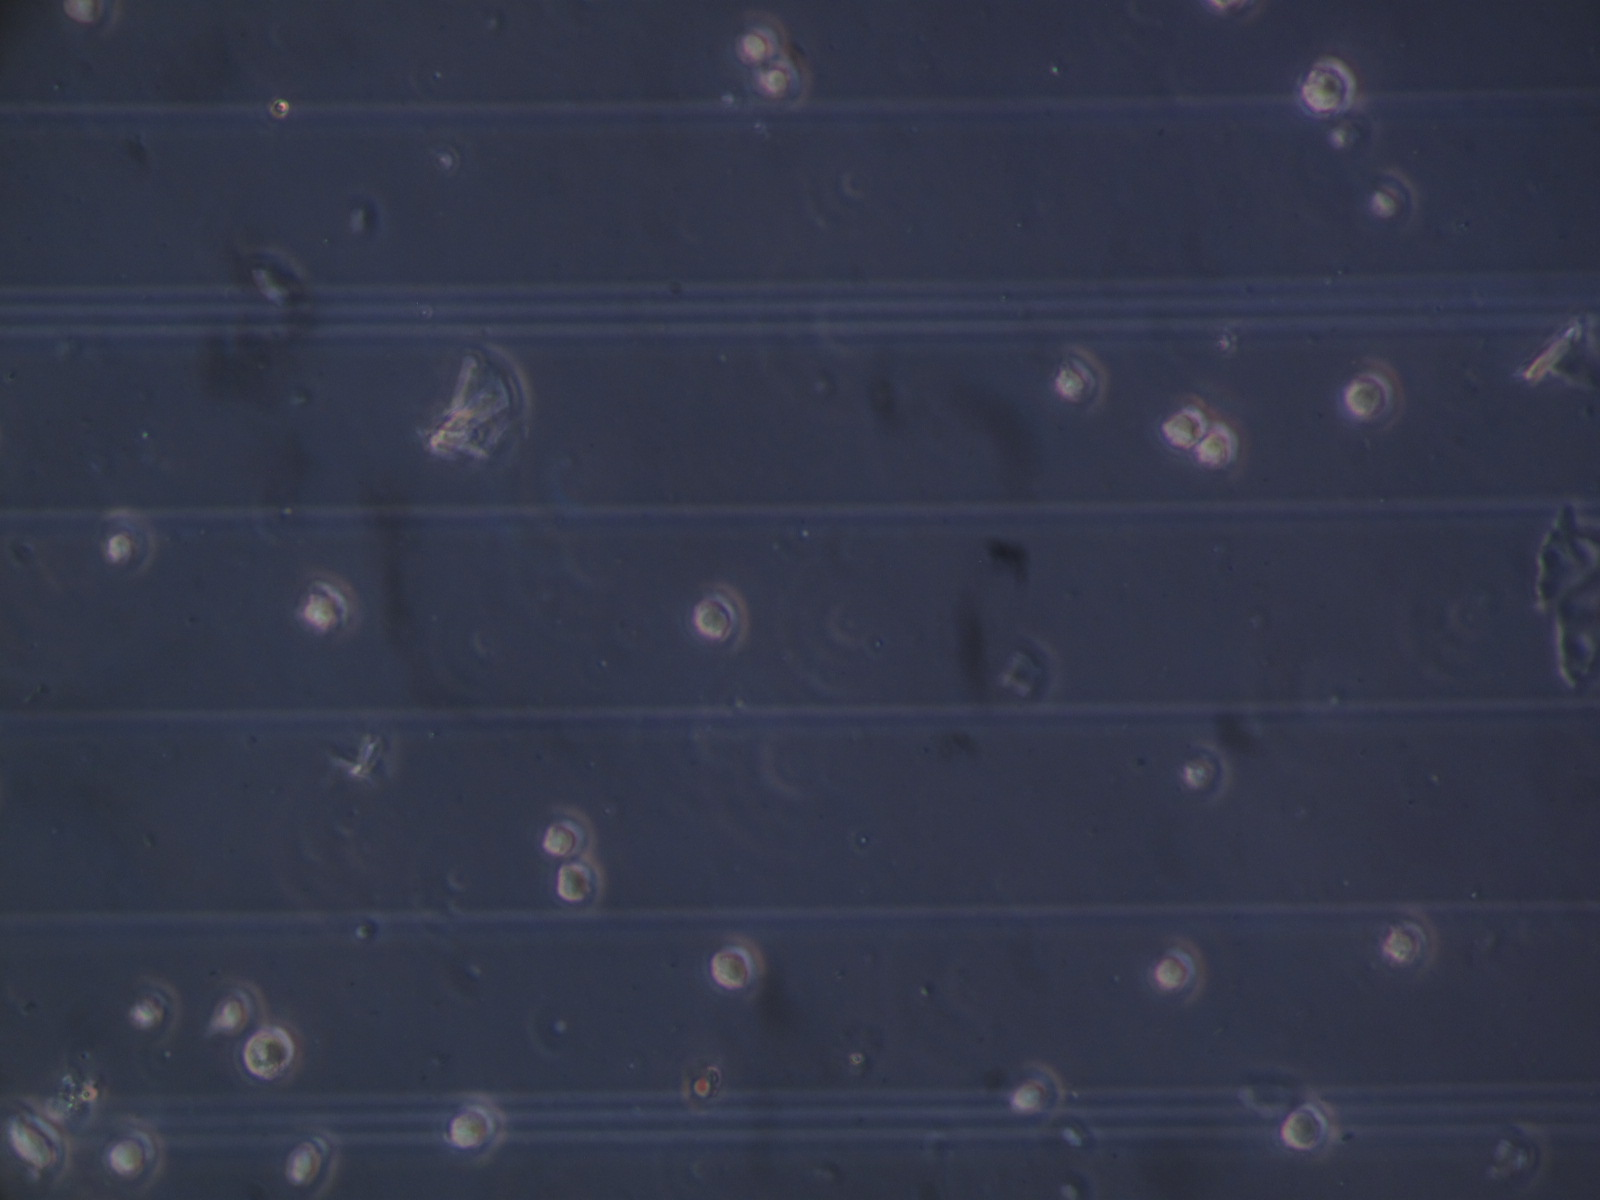hemo: (1, 1099, 74, 1184), (94, 1114, 168, 1196), (275, 1128, 346, 1200), (442, 1092, 508, 1168), (1149, 933, 1209, 1012), (98, 505, 159, 582), (296, 568, 360, 640), (1346, 354, 1403, 434), (236, 1024, 304, 1090), (1382, 904, 1440, 981), (123, 976, 185, 1047), (200, 976, 265, 1042), (695, 581, 752, 655), (1009, 1061, 1066, 1134), (743, 59, 816, 113), (1295, 54, 1356, 118), (706, 937, 765, 1002), (1281, 1094, 1340, 1158), (1053, 347, 1109, 413), (731, 9, 789, 71), (1361, 166, 1415, 231), (544, 805, 598, 863), (1180, 742, 1231, 804), (556, 856, 607, 914), (63, 1, 123, 37), (1162, 403, 1208, 449), (1191, 425, 1238, 469)
